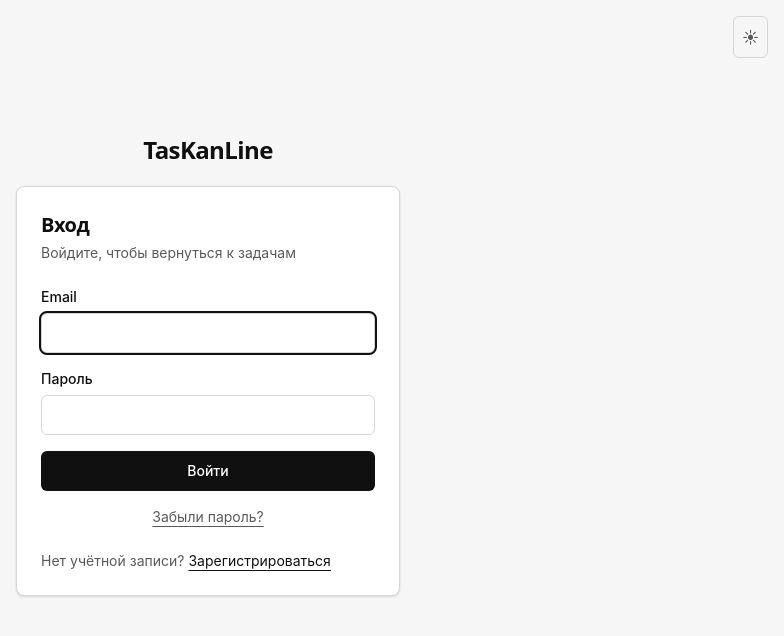
Scenario: экран входа › не отправляет пустую форму и показывает ошибки полей
Click the button "Войти" at (208, 471), box [41,451,375,491]
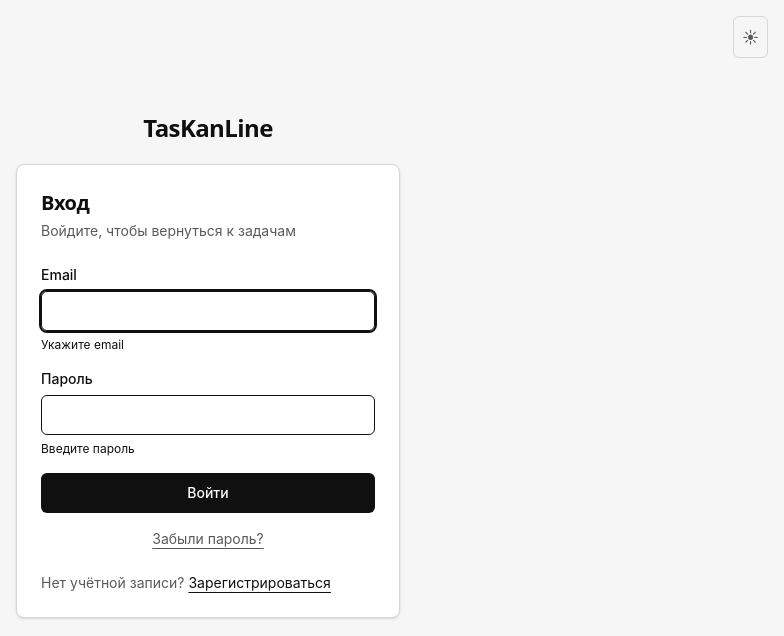
Now the text "Укажите email" is shown, box [41,337,124,352]
Now the text "Введите пароль" is shown, box [41,441,135,456]
